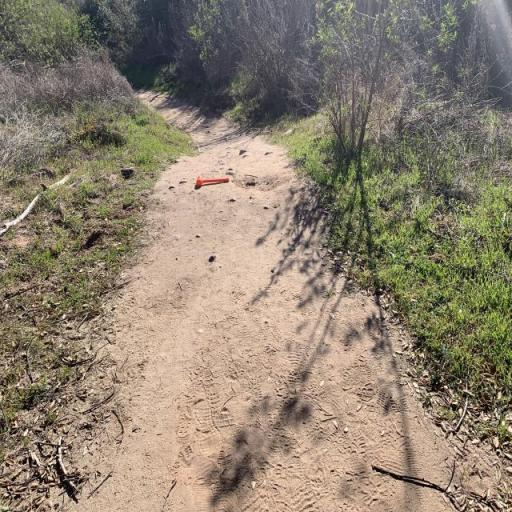mallet: (196, 176, 230, 186)
